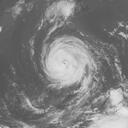cyclone: (41, 34, 98, 92)
